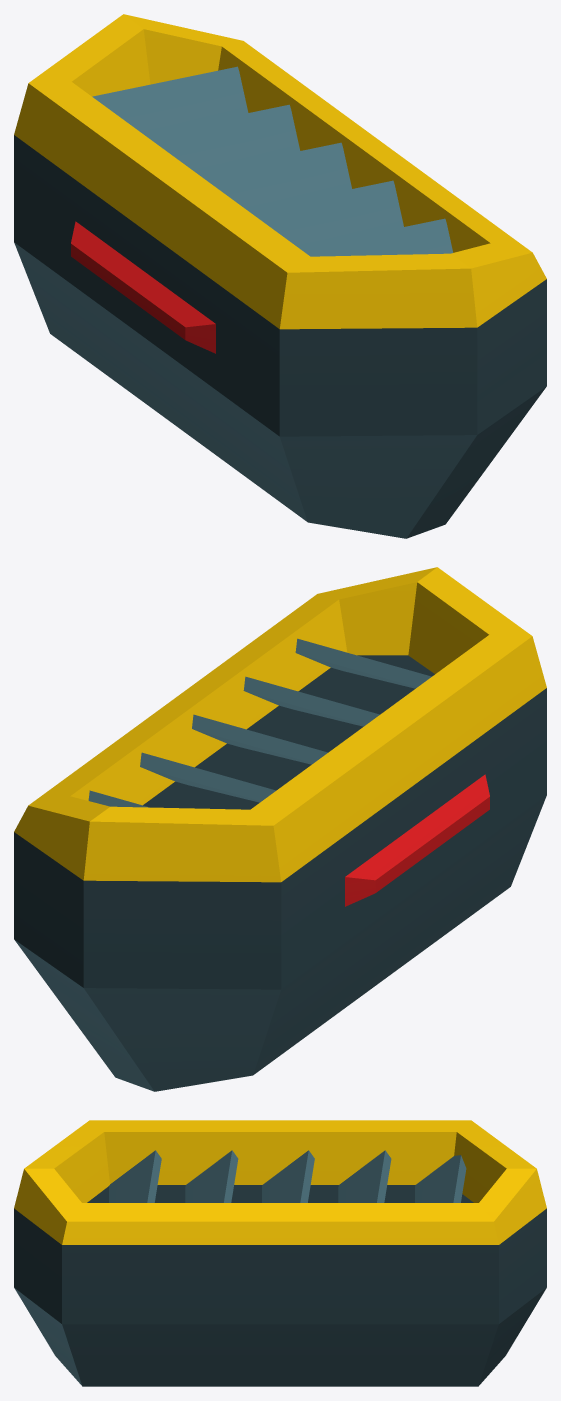
File: Drone_Delivery_03_EngineR_01.001.fbx
The picture shows the model from 3 angles, top to bottom: view 1: azimuth 30°, elevation 25°; view 2: azimuth 150°, elevation 25°; view 3: azimuth 270°, elevation 25°; orthographic projection. The views are drawn at different scales.
Parts seen in each view (by area): view 1: Drone_Delivery_03_EngineR_01.001; view 2: Drone_Delivery_03_EngineR_01.001; view 3: Drone_Delivery_03_EngineR_01.001.
Part boxes in pixels (x1,y1,x2,y2): Drone_Delivery_03_EngineR_01.001: (14,14,546,538); Drone_Delivery_03_EngineR_01.001: (14,567,546,1091); Drone_Delivery_03_EngineR_01.001: (14,1120,546,1386).
Bounding box in the file's own units: 22.81 × 52.71 × 23.22.
